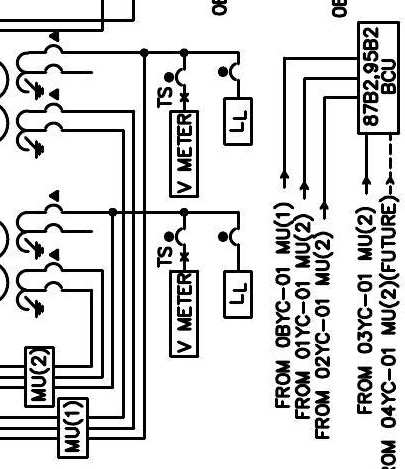LL: (222, 269, 254, 320), (222, 96, 254, 147)
MU: (56, 396, 90, 460), (23, 345, 56, 409)
v_m_digital: (168, 269, 200, 359), (168, 109, 200, 199)
